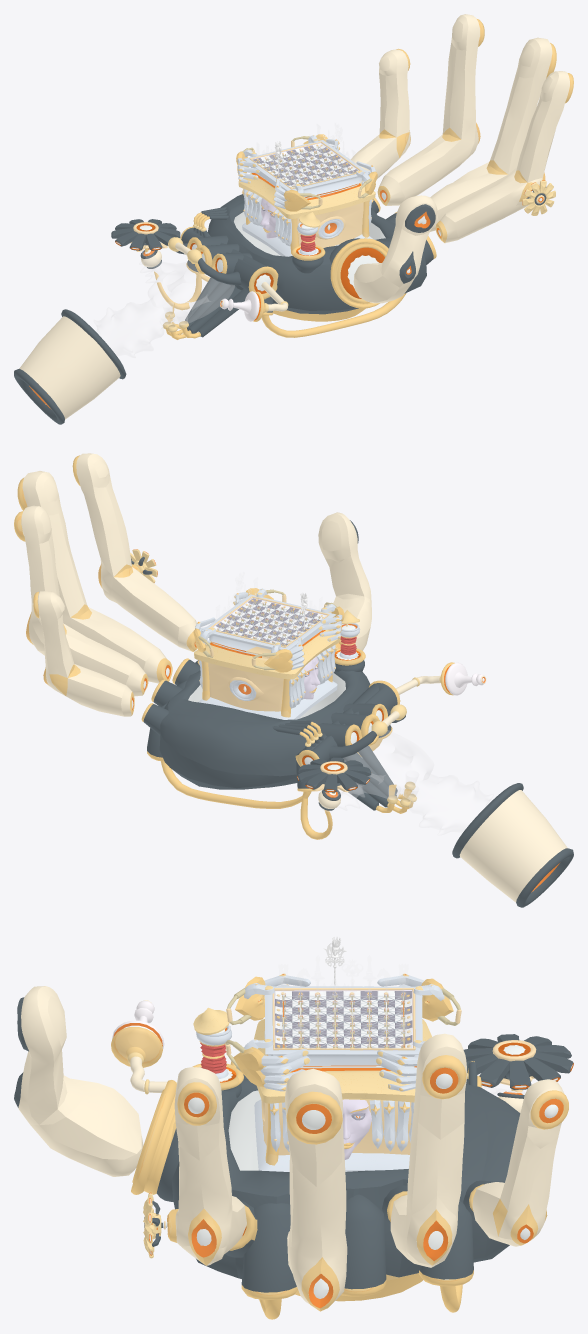
Rendered from robot_arm.glb.
3 renders of one model, top to bottom at view 1: azimuth 30°, elevation 25°; view 2: azimuth 150°, elevation 25°; view 3: azimuth 270°, elevation 25°, orthographic. The views are drawn at different scales.
Visible parts, largest first — view 1: lever_details_main_light_0, box_box_main_silver_0, box_connectdetail1_0, tubes_wrist_0, box_box_main_gold_0, box_connectdetail2_0, box_plazmared_0, box_plazmared_light_0, box_box_rods_locks_0, box_box_kernels_0; view 2: lever_details_main_light_0, box_box_main_silver_0, box_connectdetail1_0, box_box_main_gold_0, tubes_wrist_0, box_connectdetail2_0, box_plazmared_light_0, box_plazmared_0, box_box_rods_locks_0, box_box_kernels_0; view 3: lever_details_main_light_0, box_box_main_silver_0, box_connectdetail1_0, box_box_main_gold_0, box_connectdetail2_0, box_plazmared_0, box_plazmared_light_0, box_box_kernels_0, box_box_rods_locks_0, keys_keysmaterial_0.
Part boxes in pixels (x1,y1,x2,y2): lever_details_main_light_0: [19, 14, 569, 419]; box_box_main_silver_0: [14, 135, 546, 424]; box_connectdetail1_0: [145, 19, 573, 339]; tubes_wrist_0: [94, 249, 234, 357]; box_box_main_gold_0: [237, 135, 375, 256]; box_connectdetail2_0: [162, 139, 555, 332]; box_plazmared_0: [29, 139, 545, 409]; box_plazmared_light_0: [116, 173, 542, 318]; box_box_rods_locks_0: [242, 136, 372, 209]; box_box_kernels_0: [252, 143, 358, 238]; lever_details_main_light_0: [21, 453, 567, 902]; box_box_main_silver_0: [131, 520, 573, 907]; box_connectdetail1_0: [14, 455, 454, 839]; box_box_main_gold_0: [195, 588, 360, 719]; tubes_wrist_0: [319, 730, 493, 834]; box_connectdetail2_0: [130, 549, 440, 806]; box_plazmared_light_0: [32, 549, 484, 795]; box_plazmared_0: [132, 549, 559, 892]; box_box_rods_locks_0: [198, 589, 337, 670]; box_box_kernels_0: [212, 598, 326, 699]; lever_details_main_light_0: [18, 986, 564, 1307]; box_box_main_silver_0: [14, 983, 573, 1292]; box_connectdetail1_0: [111, 973, 568, 1319]; box_box_main_gold_0: [163, 974, 444, 1228]; box_connectdetail2_0: [127, 985, 468, 1258]; box_plazmared_0: [113, 974, 573, 1308]; box_plazmared_light_0: [124, 1000, 572, 1298]; box_box_kernels_0: [274, 990, 412, 1159]; box_box_rods_locks_0: [225, 987, 460, 1071]; keys_keysmaterial_0: [277, 970, 409, 1044].
Size of the model in its own units: 11.23 by 5.83 by 6.14.
12 materials, 12 textured.
